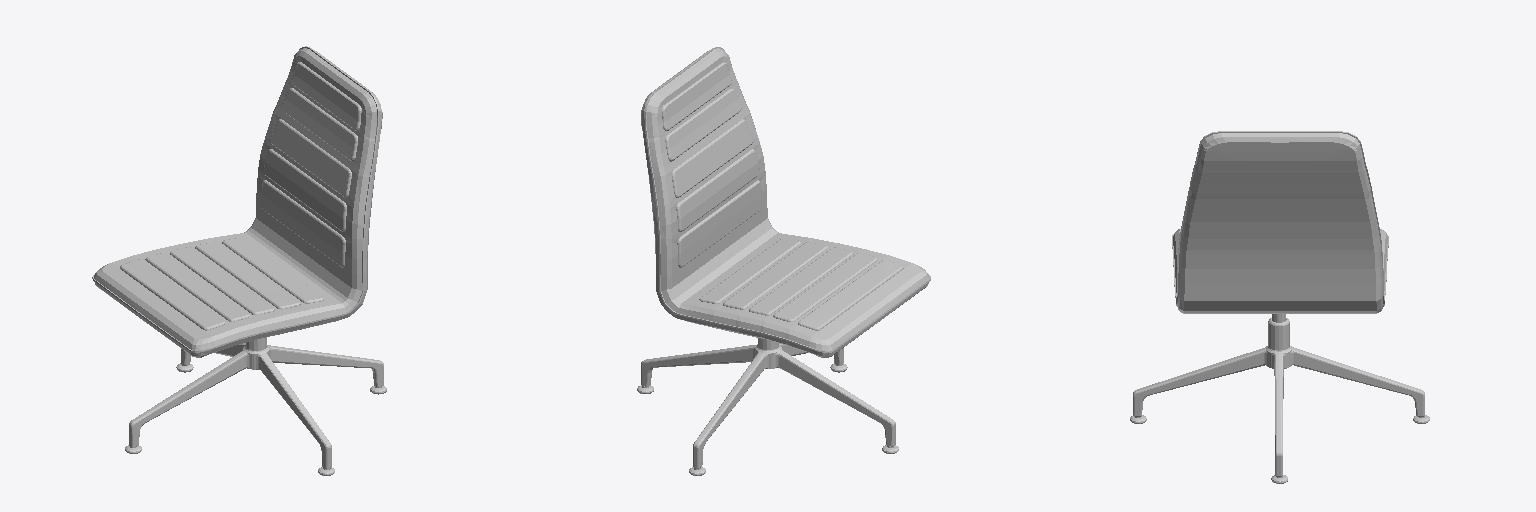
Rendered from Chair Cappellini LOTUS LOW N240620.obj.
3 views of the same model, side by side, from view 1: azimuth 30°, elevation 25°; view 2: azimuth 150°, elevation 25°; view 3: azimuth 270°, elevation 25° (orthographic).
Parts seen in each view (by area): view 1: Seduta002, Metallo002; view 2: Seduta002, Metallo002; view 3: Seduta002, Metallo002.
Boxes of the visible parts, x1,y1,x2,y2 form: Seduta002: [92, 46, 382, 357]; Metallo002: [129, 337, 383, 468]; Seduta002: [641, 47, 930, 357]; Metallo002: [641, 338, 895, 468]; Seduta002: [1172, 131, 1388, 313]; Metallo002: [1133, 314, 1424, 476].
Bounding box in the file's own units: 706 × 860 × 707.